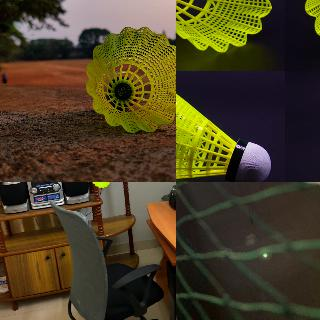shuttlecock: (84, 25, 175, 134), (176, 83, 271, 181), (176, 0, 274, 53), (91, 182, 116, 189)
